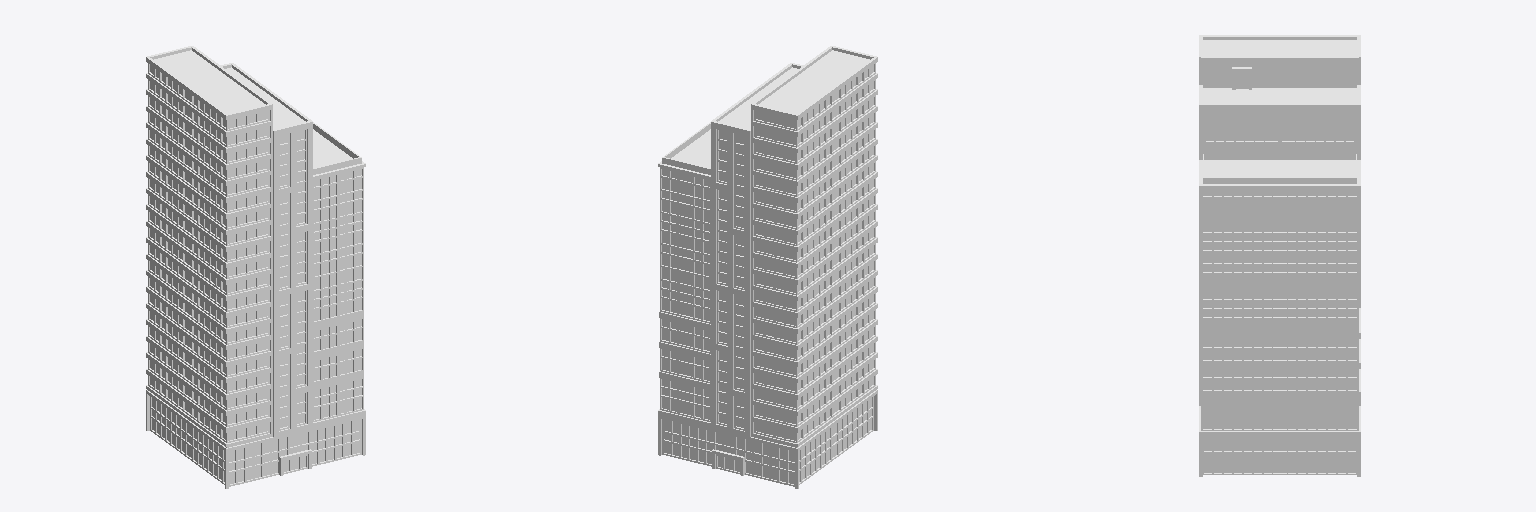
File: office.obj
The picture shows the model from 3 angles: view 1: azimuth 30°, elevation 25°; view 2: azimuth 150°, elevation 25°; view 3: azimuth 270°, elevation 25°; orthographic projection.
Parts seen in each view (by area): view 1: object 1; view 2: object 1; view 3: object 1.
Boxes of the visible parts, <box> form: object 1: <box>146,46,365,488</box>; object 1: <box>658,46,877,488</box>; object 1: <box>1199,35,1360,476</box>.
Bounding box in the file's own units: 9.8 × 25 × 9.8.